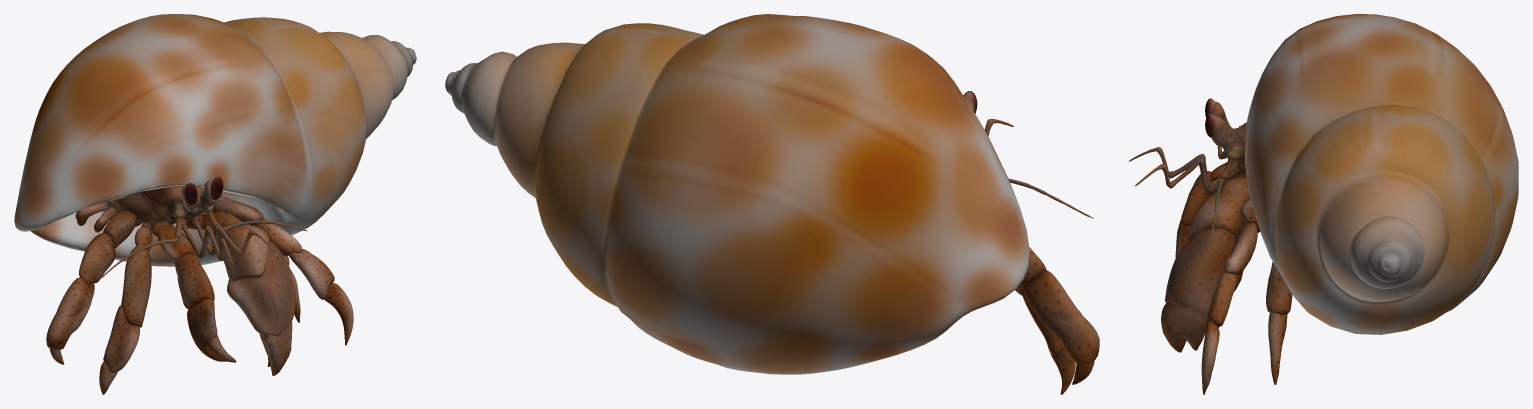
File: cangrejo.glb
3 views of the same model, side by side, from view 1: azimuth 30°, elevation 25°; view 2: azimuth 150°, elevation 25°; view 3: azimuth 270°, elevation 25° (orthographic). The views are drawn at different scales.
Parts seen in each view (by area): view 1: node_id108; view 2: node_id108; view 3: node_id108.
Boxes of the visible parts, box(x1,y1,x2,y2) form: node_id108: box(14, 14, 416, 394); node_id108: box(445, 14, 1099, 394); node_id108: box(1128, 14, 1518, 394).
Bounding box in the file's own units: 0.512 × 0.3263 × 0.3738.
1 material, 1 textured.
